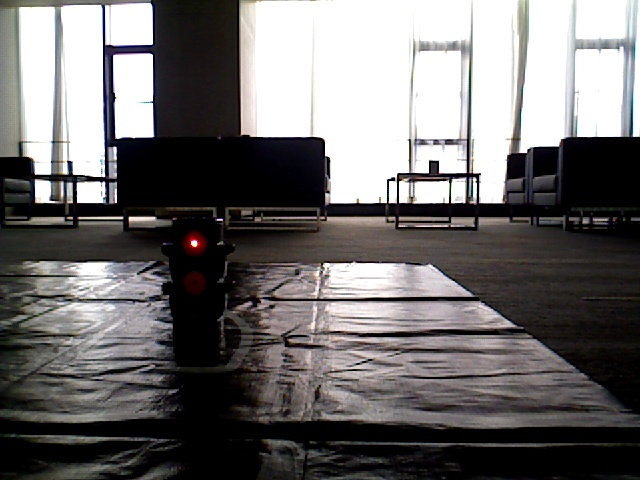red: (168, 209, 220, 326)
